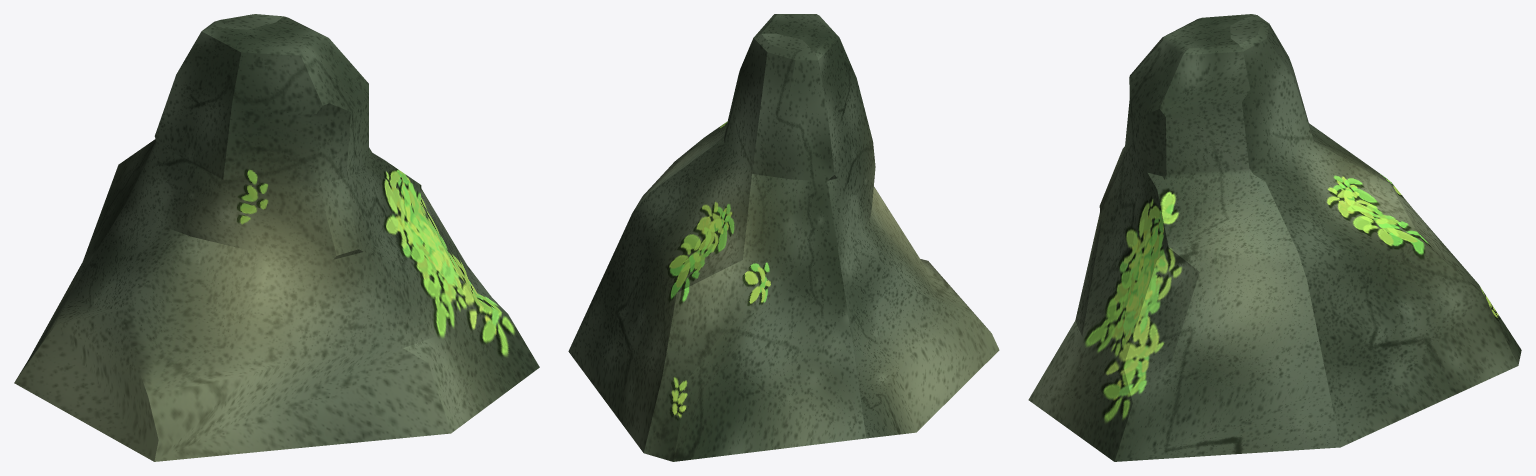
The model's file is Rock1S.fbx.
3 renders of one model, left to right at view 1: azimuth 30°, elevation 25°; view 2: azimuth 150°, elevation 25°; view 3: azimuth 270°, elevation 25°, orthographic. The views are drawn at different scales.
Parts seen in each view (by area): view 1: pCylinder5; view 2: pCylinder5; view 3: pCylinder5.
Boxes of the visible parts, x1,y1,x2,y2 form: pCylinder5: [14, 14, 539, 461]; pCylinder5: [568, 14, 999, 461]; pCylinder5: [1028, 14, 1521, 461].
Size of the model in its own units: 117 by 99.81 by 129.
